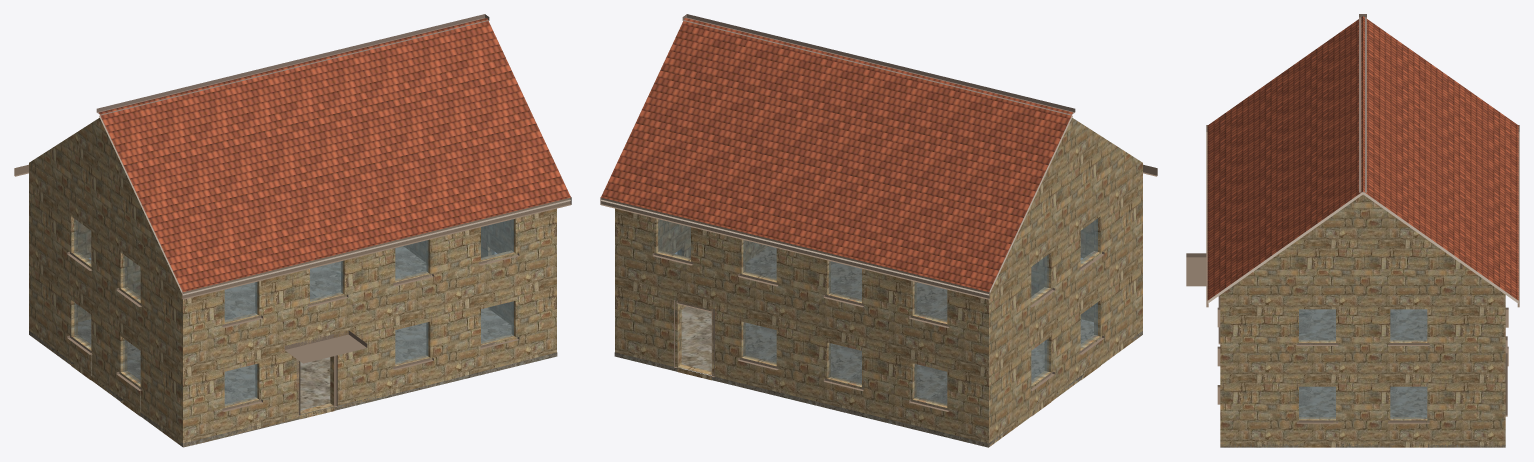
File: village-inn.zfix-v5.lod1.glb
3 views of the same model, side by side, from view 1: azimuth 30°, elevation 25°; view 2: azimuth 150°, elevation 25°; view 3: azimuth 270°, elevation 25° (orthographic). The views are drawn at different scales.
Visible parts, largest first — view 1: village-inn; view 2: village-inn; view 3: village-inn.
Boxes of the visible parts, left/top/right/bottom form: village-inn: left=14, top=14, right=571, bottom=447; village-inn: left=600, top=14, right=1157, bottom=447; village-inn: left=1186, top=14, right=1519, bottom=447.
Bounding box in the file's own units: 14.54 × 10.13 × 11.69.
Materials: 5 (3 with a texture image).
